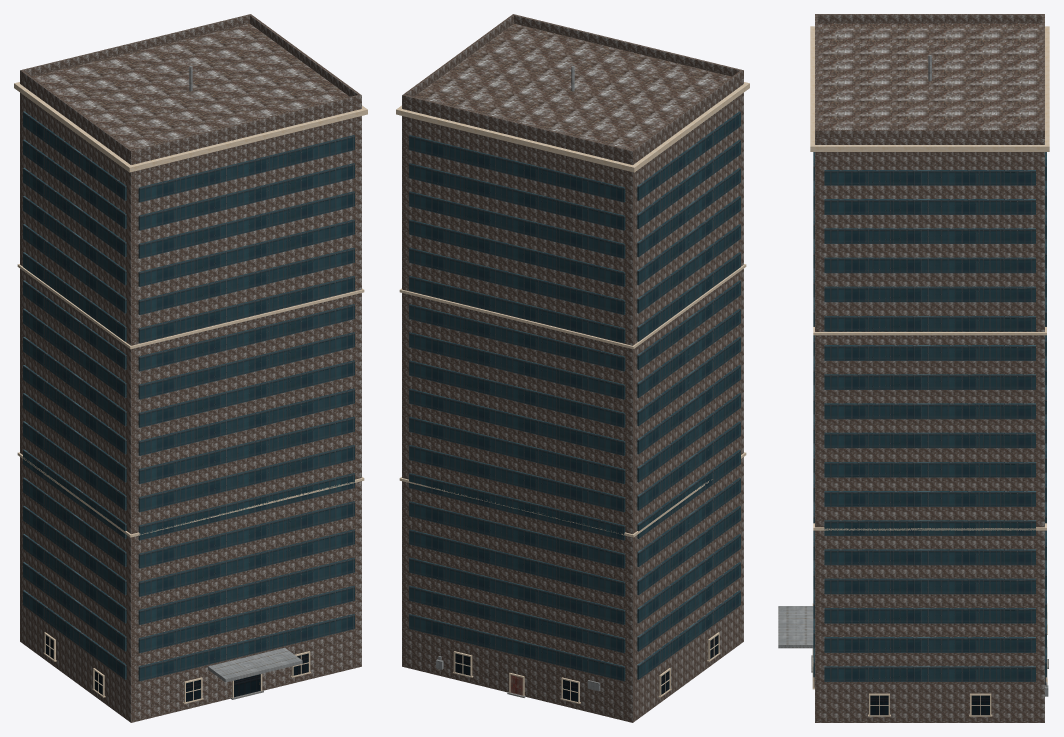
The model's file is trumbull-arms_lod0.gltf.
3 views of the same model, side by side, from view 1: azimuth 30°, elevation 25°; view 2: azimuth 150°, elevation 25°; view 3: azimuth 270°, elevation 25° (orthographic). The views are drawn at different scales.
Parts seen in each view (by area): view 1: trumbull-arms_main, trumbull-arms_fen_07-glass-curtain-blue_0, trumbull-arms__cornice, trumbull-arms__parapet_front, trumbull-arms__parapet_back, trumbull-arms__canopy, trumbull-arms__string_course_2, trumbull-arms_fen_07-glass-curtain-blue_2_t, trumbull-arms__parapet_left, trumbull-arms__parapet_right, trumbull-arms_fen_04-limestone_1, trumbull-arms__string_course_1; view 2: trumbull-arms_main, trumbull-arms_fen_07-glass-curtain-blue_0, trumbull-arms__cornice, trumbull-arms__parapet_back, trumbull-arms__parapet_front, trumbull-arms__string_course_2, trumbull-arms__parapet_left, trumbull-arms__parapet_right, trumbull-arms_fen_04-limestone_1, trumbull-arms_fen_07-glass-curtain-blue_2_t, trumbull-arms__string_course_1; view 3: trumbull-arms_main, trumbull-arms_fen_07-glass-curtain-blue_0, trumbull-arms__cornice, trumbull-arms__parapet_left, trumbull-arms__parapet_right, trumbull-arms__canopy, trumbull-arms__string_course_2, trumbull-arms_fen_07-glass-curtain-blue_2_t, trumbull-arms__string_course_1, trumbull-arms_fen_04-limestone_1.
Part boxes in pixels (box(x1,y1,x2,y2)): trumbull-arms_main: box(20, 23, 361, 722); trumbull-arms_fen_07-glass-curtain-blue_0: box(23, 111, 354, 681); trumbull-arms__cornice: box(14, 82, 367, 172); trumbull-arms__parapet_front: box(129, 94, 361, 159); trumbull-arms__parapet_back: box(20, 14, 251, 78); trumbull-arms__canopy: box(208, 647, 302, 682); trumbull-arms__string_course_2: box(17, 264, 364, 349); trumbull-arms_fen_07-glass-curtain-blue_2_t: box(45, 635, 308, 701); trumbull-arms__parapet_left: box(21, 70, 131, 157); trumbull-arms__parapet_right: box(250, 15, 359, 96); trumbull-arms_fen_04-limestone_1: box(43, 632, 311, 703); trumbull-arms__string_course_1: box(17, 452, 364, 537); trumbull-arms_main: box(402, 23, 743, 722); trumbull-arms_fen_07-glass-curtain-blue_0: box(409, 111, 740, 681); trumbull-arms__cornice: box(396, 82, 749, 172); trumbull-arms__parapet_back: box(402, 94, 634, 159); trumbull-arms__parapet_front: box(512, 14, 743, 78); trumbull-arms__string_course_2: box(399, 264, 746, 349); trumbull-arms__parapet_left: box(632, 70, 742, 157); trumbull-arms__parapet_right: box(404, 15, 513, 96); trumbull-arms_fen_04-limestone_1: box(452, 632, 720, 703); trumbull-arms_fen_07-glass-curtain-blue_2_t: box(455, 635, 718, 701); trumbull-arms__string_course_1: box(399, 452, 746, 537); trumbull-arms_main: box(815, 23, 1044, 722); trumbull-arms_fen_07-glass-curtain-blue_0: box(813, 152, 1046, 681); trumbull-arms__cornice: box(810, 26, 1049, 151); trumbull-arms__parapet_left: box(817, 14, 1042, 23); trumbull-arms__parapet_right: box(817, 129, 1042, 138); trumbull-arms__canopy: box(778, 606, 813, 648); trumbull-arms__string_course_2: box(813, 327, 1046, 335); trumbull-arms_fen_07-glass-curtain-blue_2_t: box(814, 677, 1045, 715); trumbull-arms__string_course_1: box(813, 523, 1046, 530); trumbull-arms_fen_04-limestone_1: box(812, 603, 1047, 716).
Size of the model in its own units: 31 by 73 by 29.5.
